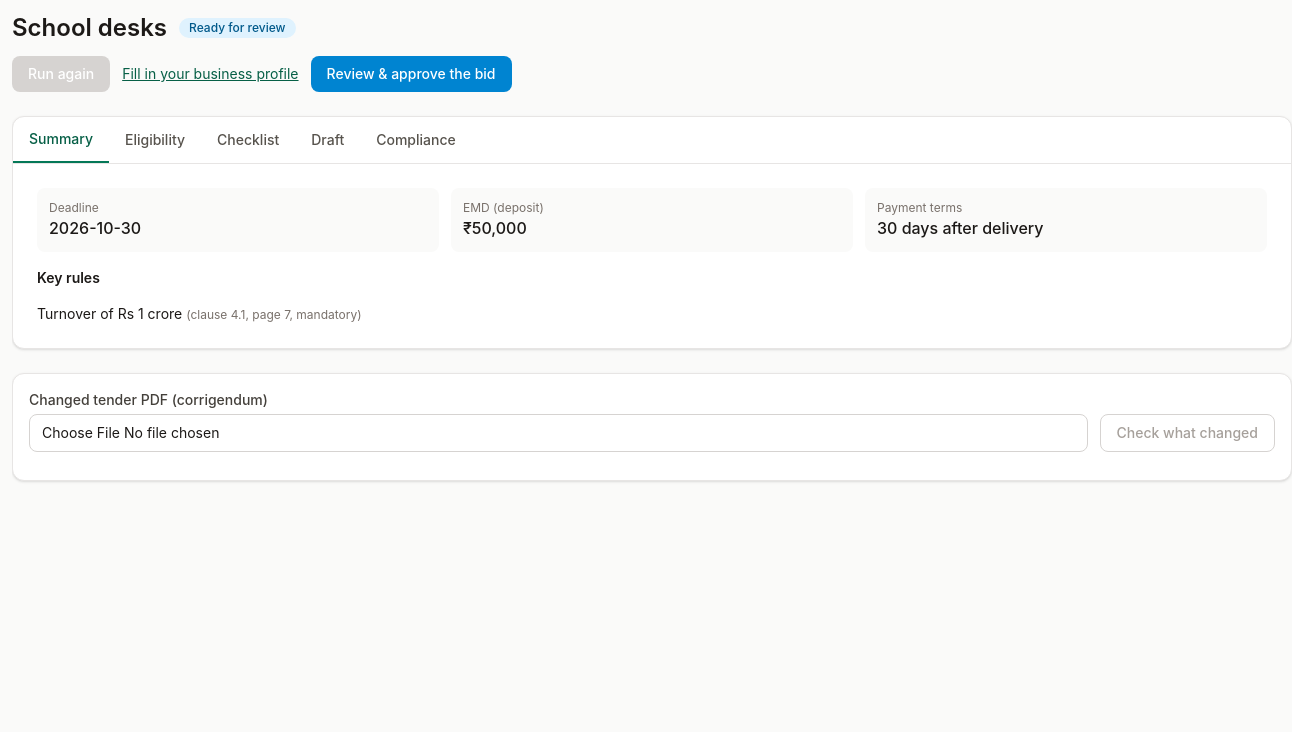
Test: checklist tab marks what is missing
Click the tab "Checklist" at (248, 140), box x1=201 y1=117 x2=295 y2=163
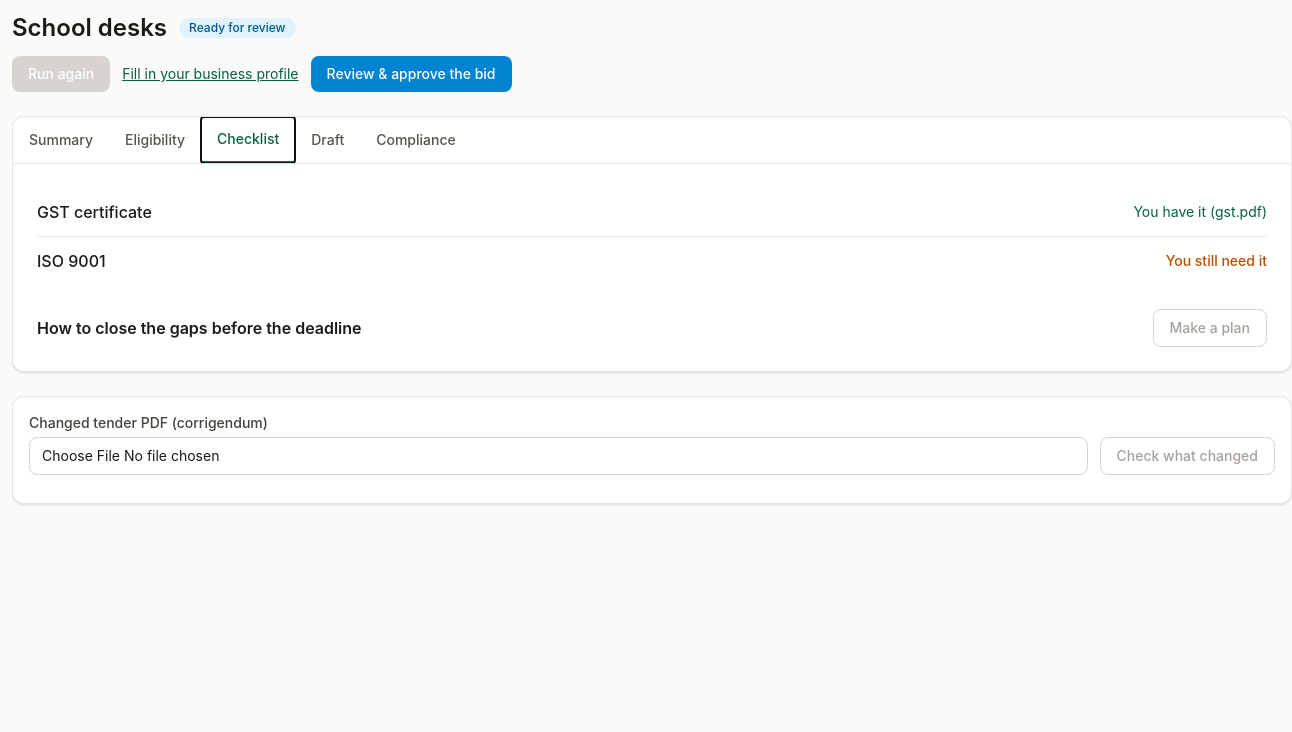
Result: the text "You have it (gst.pdf)" is shown at x1=1133 y1=202 x2=1267 y2=222
Result: the text "You still need it" is shown at x1=1166 y1=251 x2=1267 y2=271
